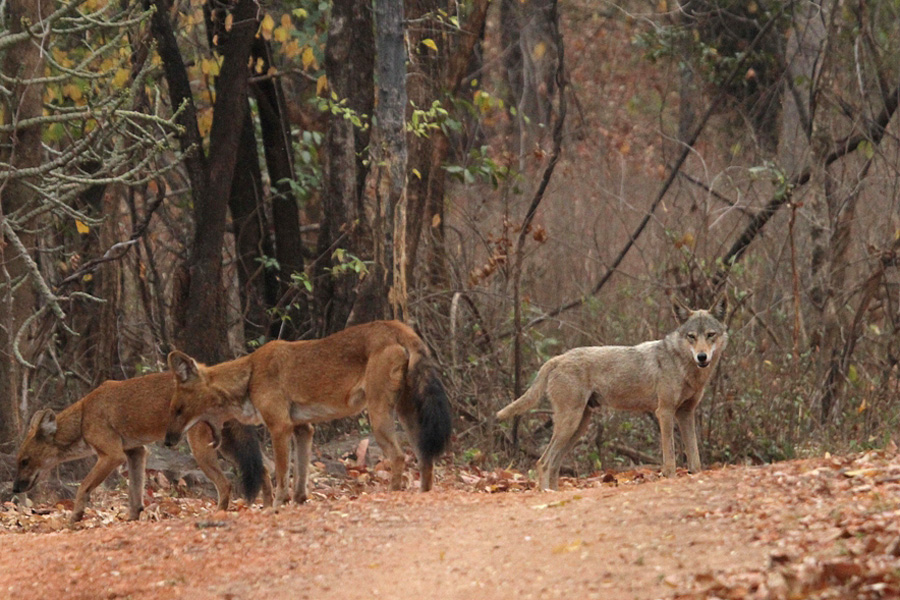wolf: (164, 317, 451, 533), (512, 284, 737, 479), (10, 362, 231, 527)
